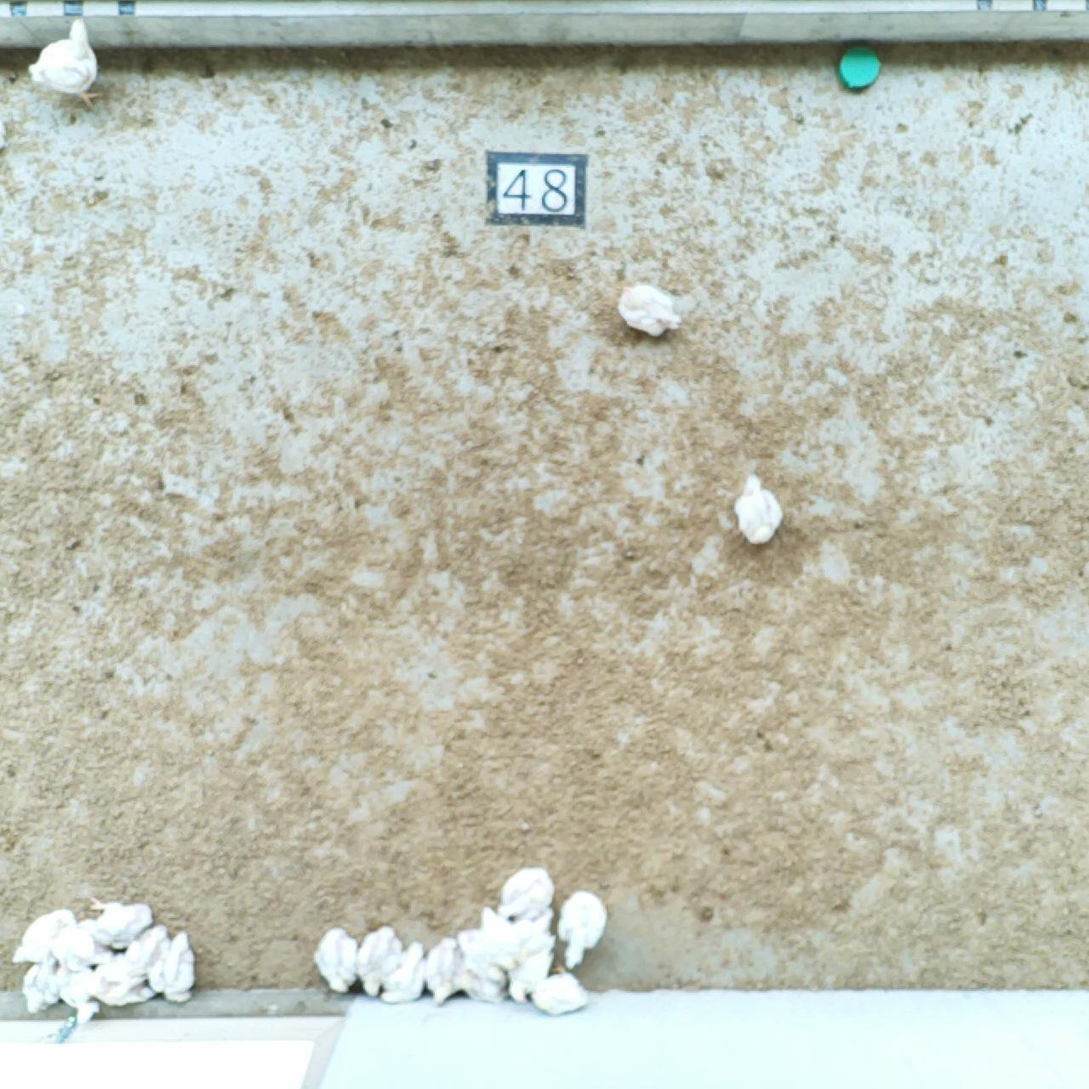chicken: (29, 14, 102, 104), (562, 890, 612, 966), (459, 912, 547, 952), (49, 959, 102, 1024), (619, 282, 681, 334), (734, 474, 780, 544), (153, 932, 198, 1003), (357, 922, 399, 998), (92, 961, 154, 1010), (93, 897, 156, 944), (14, 905, 72, 955), (508, 938, 556, 996), (383, 942, 430, 1001), (523, 976, 588, 1018), (314, 925, 353, 989), (121, 922, 167, 974), (459, 952, 507, 1001), (503, 868, 553, 915), (21, 954, 59, 1015), (59, 921, 111, 965), (424, 936, 460, 999)
